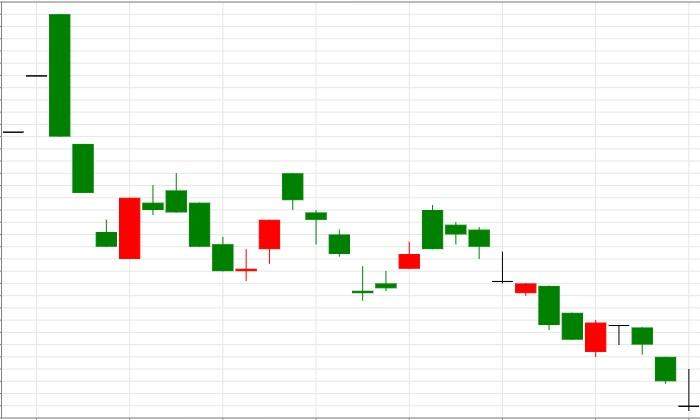bullish_engulfing_rise: (27, 13, 140, 258)
morning_star_rise: (142, 173, 279, 281)
